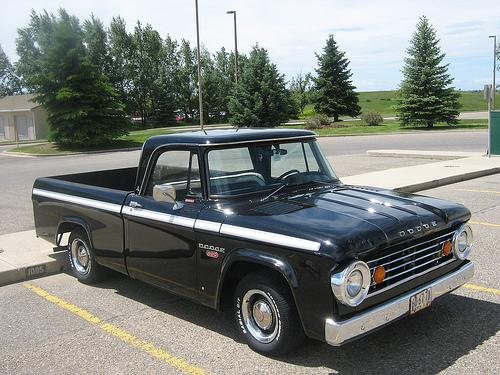truck: (31, 127, 475, 360)
